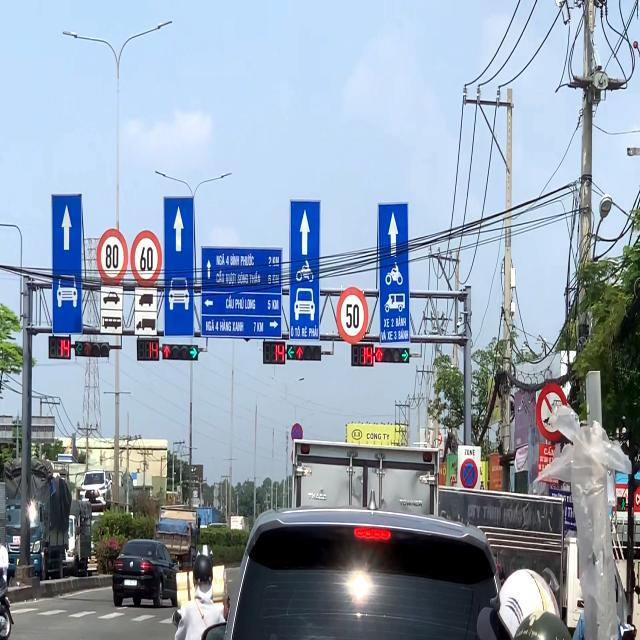P.127: (334, 287, 370, 342), (130, 230, 163, 286), (98, 229, 128, 284)
P.130: (459, 457, 479, 493)
